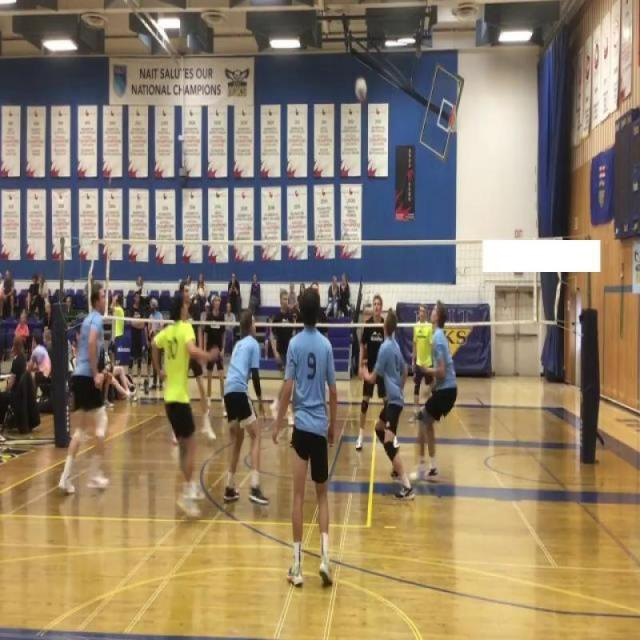volleyball: (354, 76, 368, 103)
